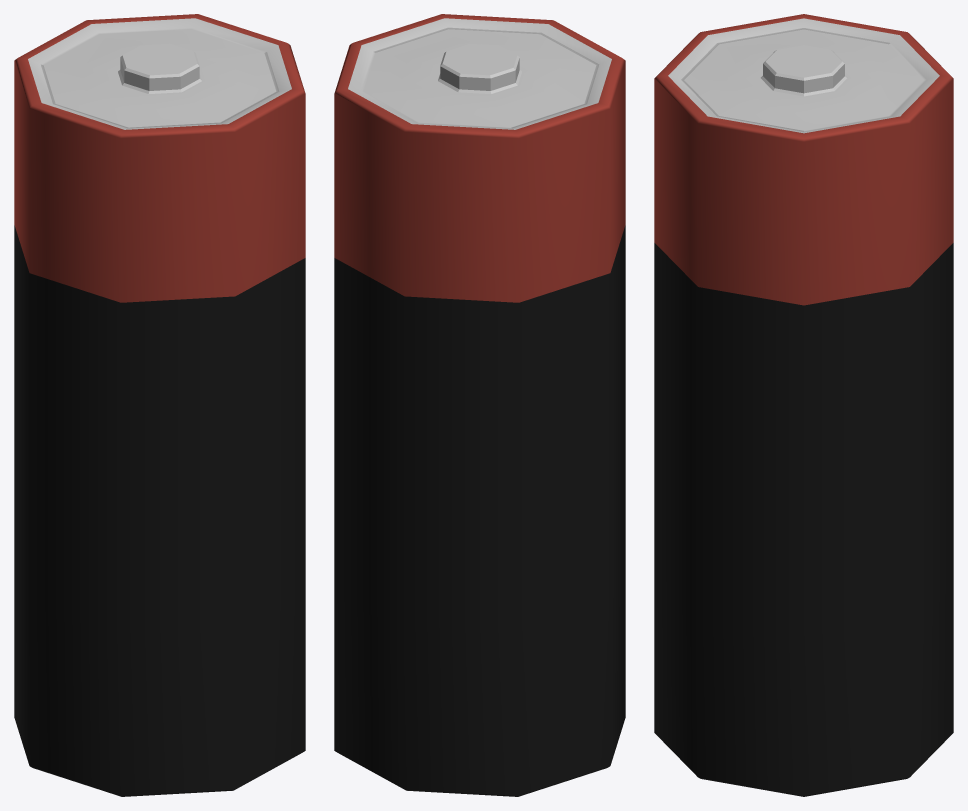
Rendered from battery_MD.fbx.
The picture shows the model from 3 angles, left to right: view 1: azimuth 30°, elevation 25°; view 2: azimuth 150°, elevation 25°; view 3: azimuth 270°, elevation 25°; orthographic projection.
Visible parts, largest first — view 1: pCylinder1; view 2: pCylinder1; view 3: pCylinder1.
Boxes of the visible parts, x1=… form: pCylinder1: x1=14, y1=14, x2=305, y2=796; pCylinder1: x1=334, y1=14, x2=625, y2=796; pCylinder1: x1=654, y1=14, x2=953, y2=796.
Bounding box in the file's own units: 2 × 4.97 × 2.
